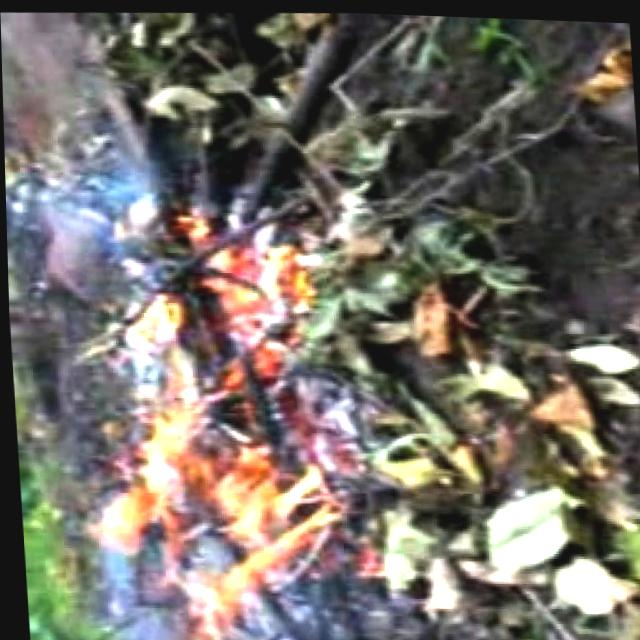Fire: (63, 208, 339, 634)
